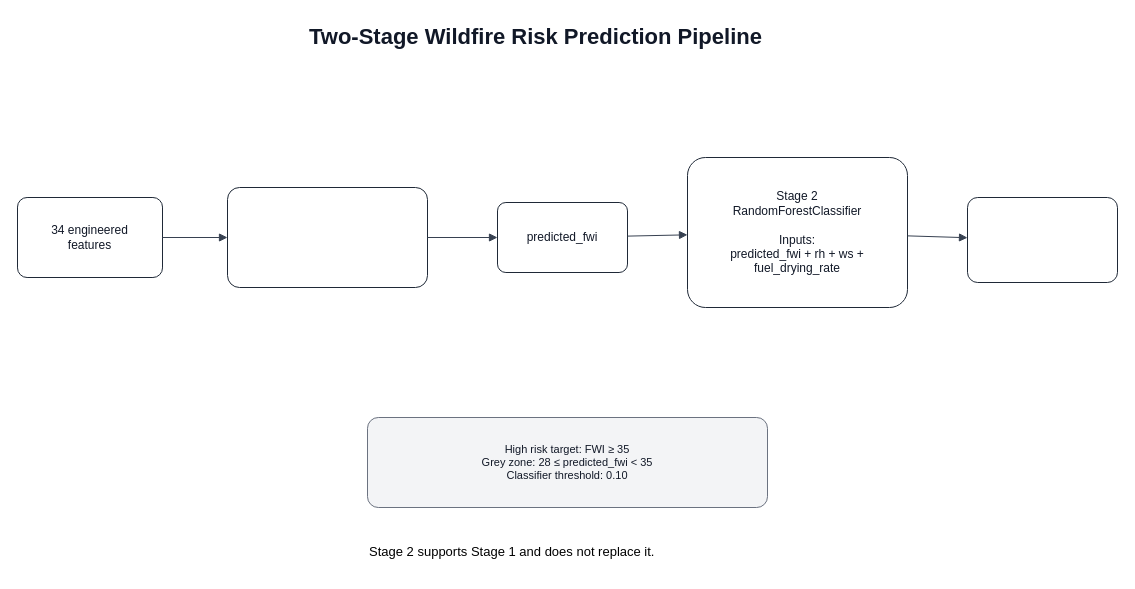
This 1135x589 diagram has some shape labels left out. The centre of each missing label's shape, as x and y in pixels:
High-risk probability / high-risk flag: (x=1042, y=239)
Stage 1 HistGradientBoostingRegressor: (x=327, y=237)
